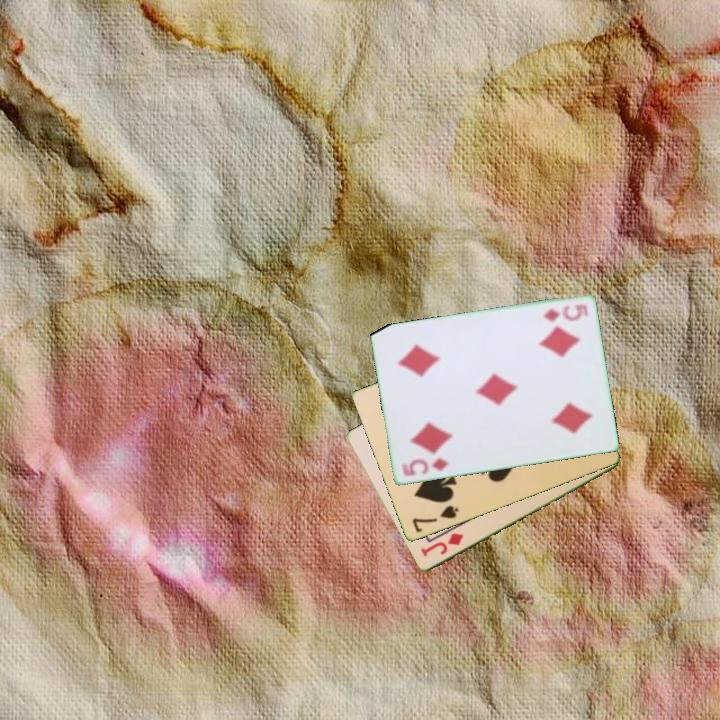5d: (539, 300, 591, 325), (398, 455, 452, 479)
7s: (409, 502, 462, 536)
Jd: (417, 529, 466, 560)
